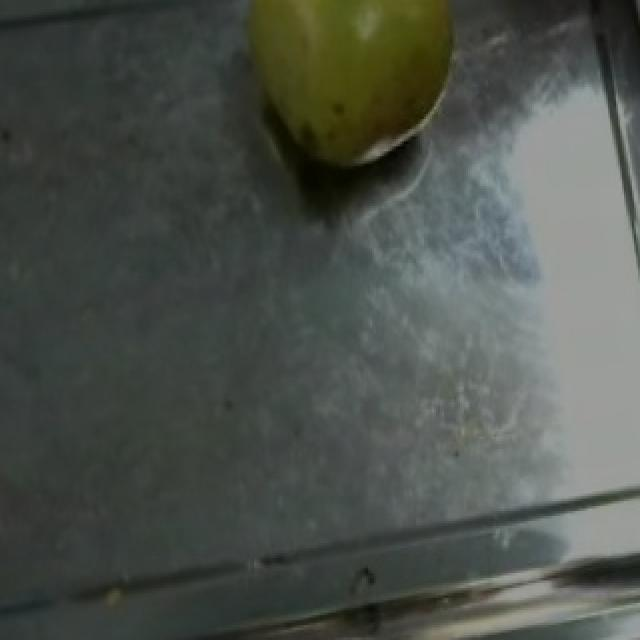fruit: (206, 0, 486, 193)
